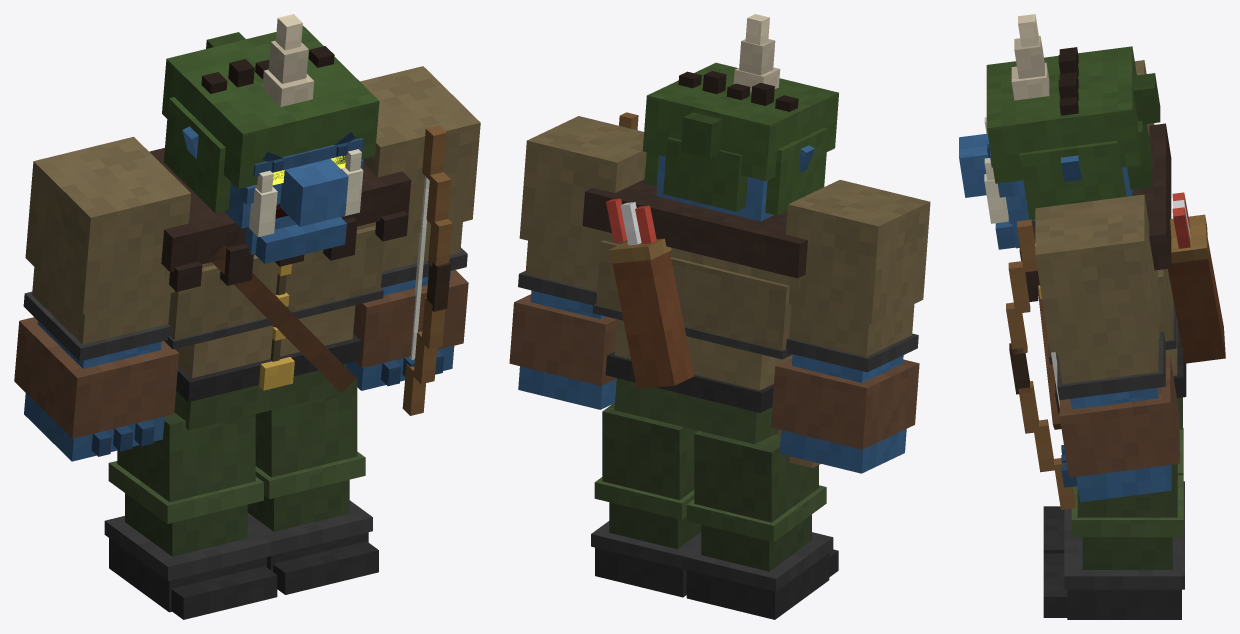
The model's file is ogre_chasseur.glb.
3 views of the same model, side by side, from view 1: azimuth 30°, elevation 25°; view 2: azimuth 150°, elevation 25°; view 3: azimuth 270°, elevation 25° (orthographic). The views are drawn at different scales.
Parts seen in each view (by area): view 1: ArmR, Head, Torso, LegR, ArmL, LegL, HandL; view 2: Torso, ArmR, Head, ArmL, LegR, LegL; view 3: ArmL, Head, LegL, Torso, HandL, LegR.
Boxes of the visible parts, x1,y1,x2,y2 form: ArmR: [14, 136, 191, 461]; Head: [162, 14, 379, 263]; Torso: [149, 148, 411, 430]; LegR: [104, 412, 277, 619]; ArmL: [346, 66, 480, 390]; LegL: [247, 378, 378, 594]; HandL: [402, 125, 452, 415]; Torso: [582, 179, 820, 467]; ArmR: [770, 180, 930, 473]; Head: [642, 14, 838, 221]; ArmL: [509, 116, 646, 409]; LegR: [683, 430, 838, 619]; LegL: [591, 402, 701, 597]; ArmL: [1035, 194, 1179, 502]; Head: [959, 14, 1160, 249]; LegL: [1043, 464, 1184, 619]; Torso: [1019, 123, 1225, 429]; HandL: [1006, 219, 1075, 509]; LegR: [1043, 428, 1184, 553].
Size of the model in its own units: 1.46 by 2.09 by 0.9068.
Materials: 44 (44 with a texture image).
